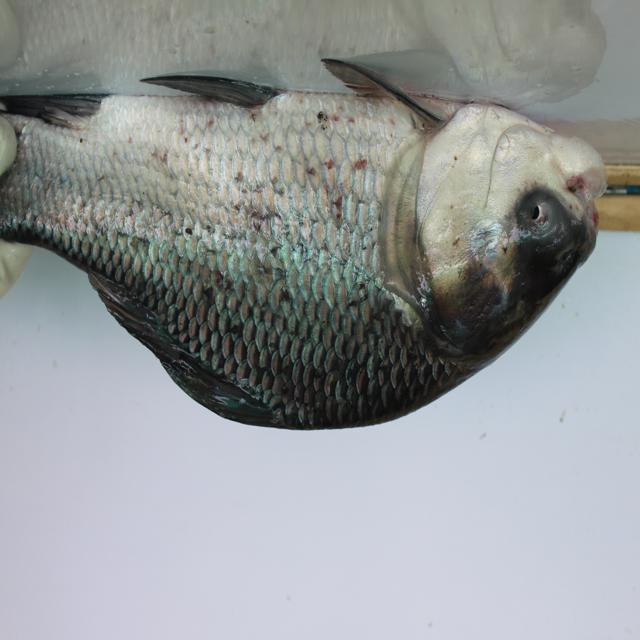Catla: (4, 54, 627, 448)
